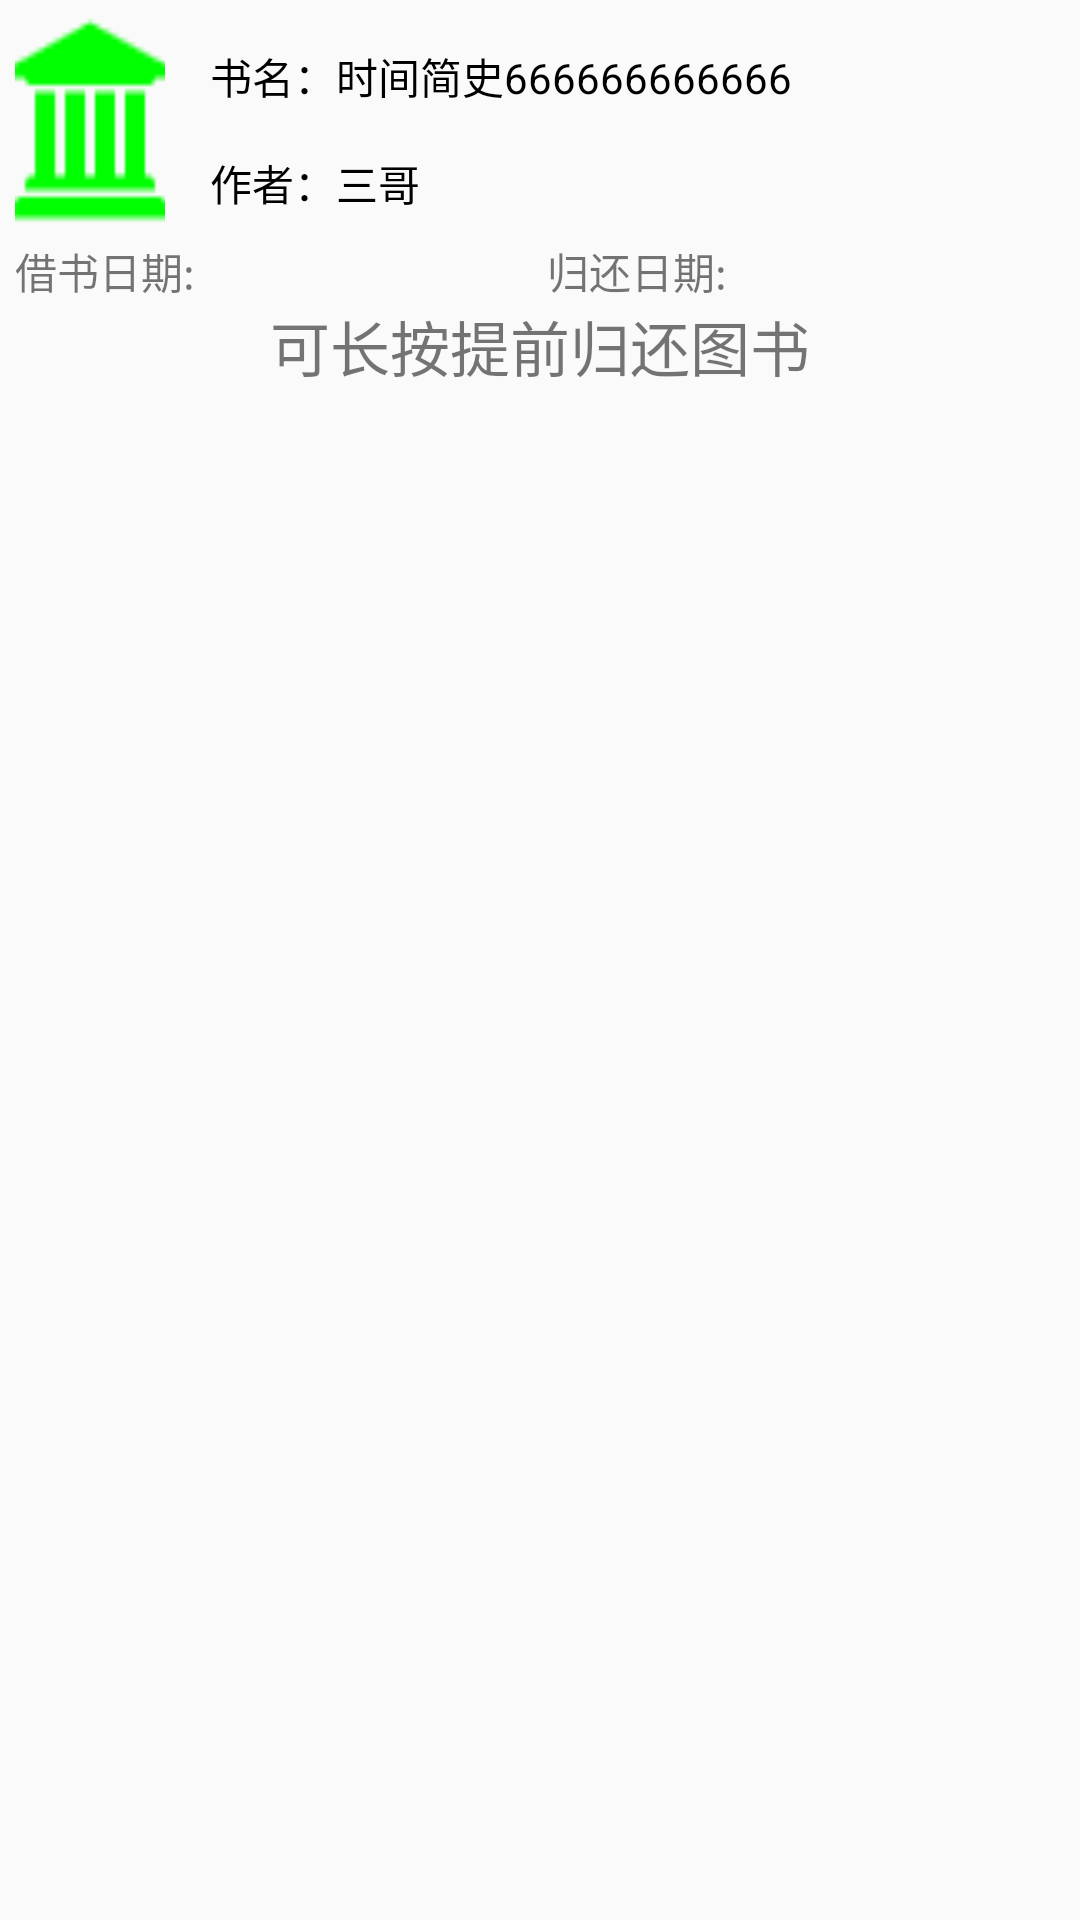

Named icons in this screenshot (1080w x 1920h) and their centers, point (x, y):
librarygreen: point (90, 120)
